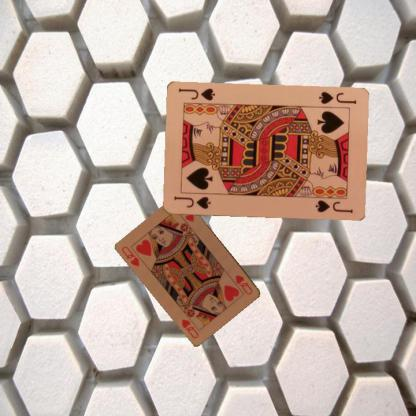Js: (171, 193, 211, 211), (316, 89, 357, 106)
Qh: (119, 244, 141, 267), (233, 272, 254, 296)
